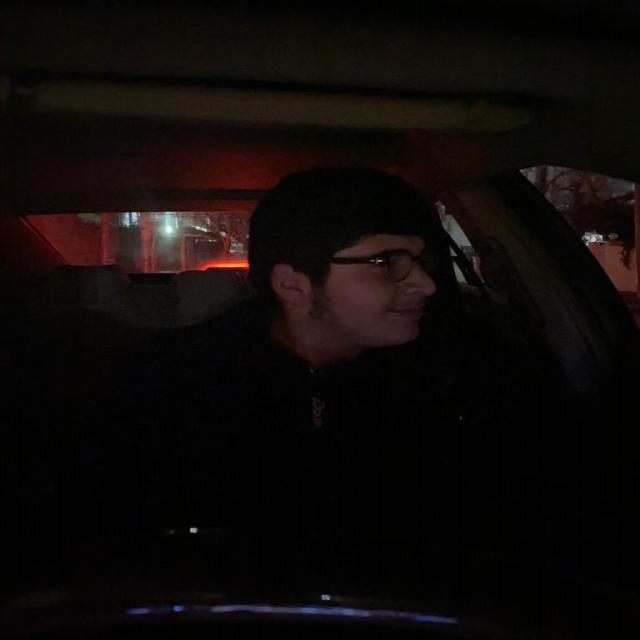LeftRight: (247, 165, 449, 368)
